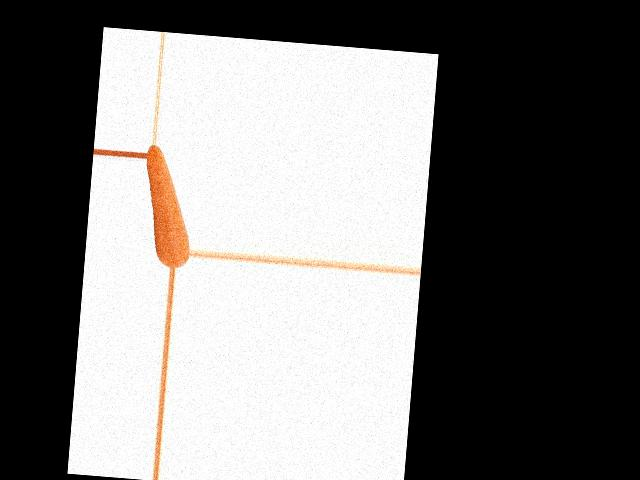carrot: (138, 146, 197, 269)
